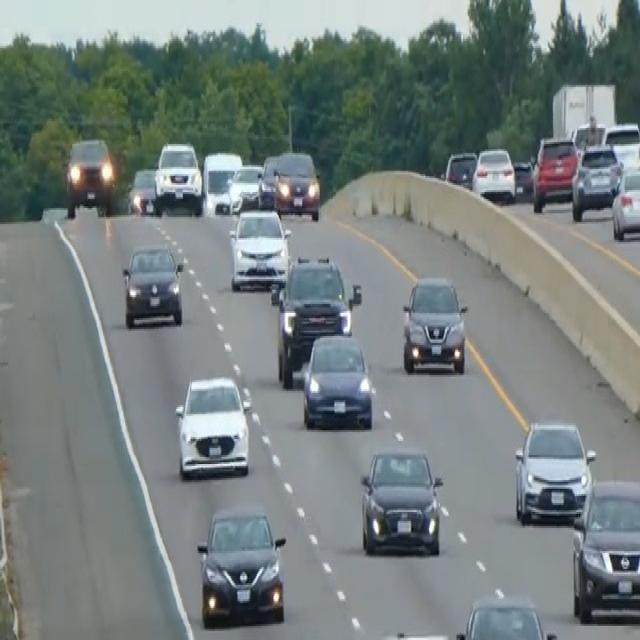car: (196, 503, 287, 628), (570, 476, 639, 624), (359, 444, 444, 556), (513, 416, 595, 524), (174, 373, 250, 480), (299, 329, 373, 430), (401, 272, 468, 375), (121, 242, 184, 329), (228, 206, 291, 290), (455, 592, 559, 638), (571, 140, 622, 220), (531, 134, 579, 212), (154, 139, 203, 213), (273, 150, 321, 220), (471, 144, 516, 203), (201, 150, 242, 213), (611, 162, 639, 240), (602, 119, 639, 169), (227, 162, 263, 213), (127, 165, 161, 217), (570, 115, 605, 153), (444, 148, 476, 188), (257, 153, 279, 208), (357, 628, 455, 638), (512, 156, 534, 194)
jeep: (272, 250, 362, 386), (63, 133, 116, 219)
